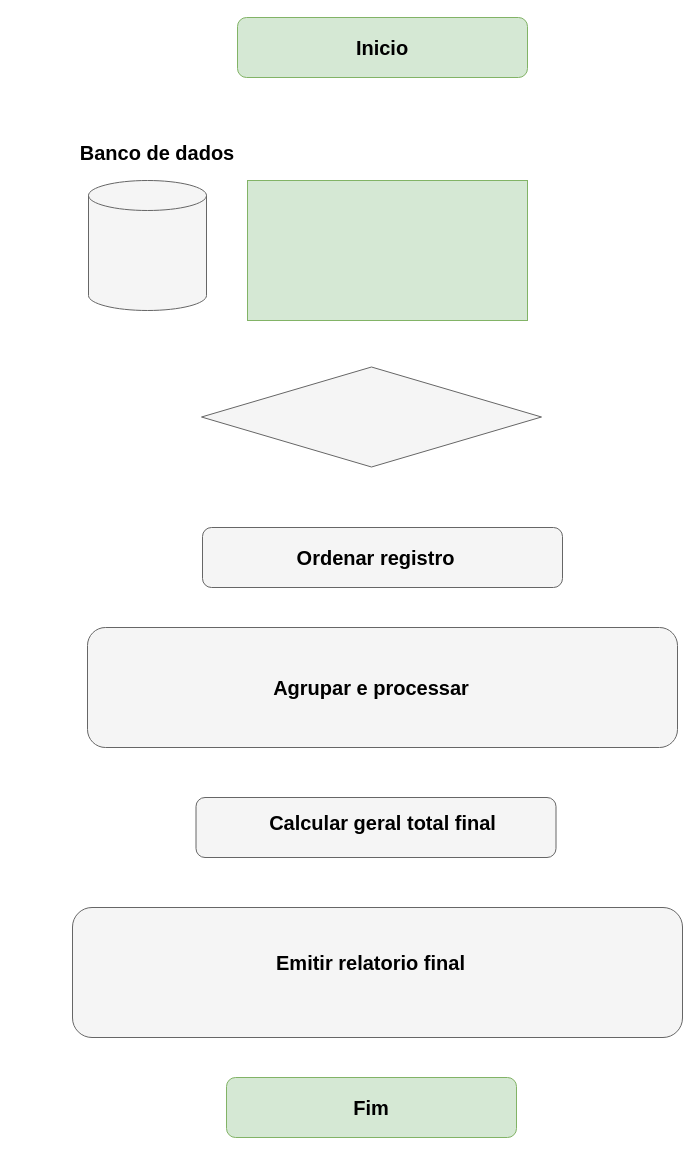
This 700x1155 diagram has some shape labels left out. The shapes that lost their labels are listed below. From the top down, each one's centre as x and y in pixels, then its label:
At (387,250): "Duplicatas de clientes Nº duplicata Cod_cliente Data_vencimento".
At (371,416): "Filtrar em aberto".
